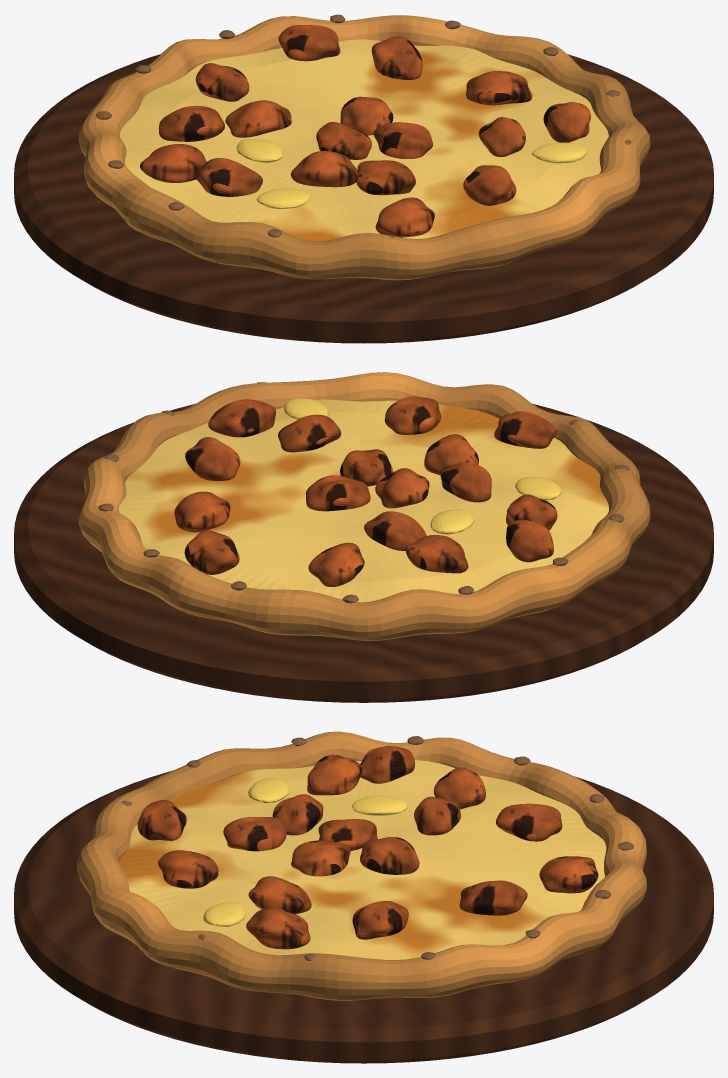
Rendered from chicken_overload_pizza.glb.
3 views of the same model, one above another, from view 1: azimuth 30°, elevation 25°; view 2: azimuth 150°, elevation 25°; view 3: azimuth 270°, elevation 25° (orthographic).
Parts seen in each view (by area): view 1: chicken_overload_pizza__board_1, chicken_overload_pizza__cheese_4, chicken_overload_pizza__crust_3, chicken_overload_pizza__chicken_5, chicken_overload_pizza__yellow_pepper_8, chicken_overload_pizza__char_spots_9; view 2: chicken_overload_pizza__board_1, chicken_overload_pizza__cheese_4, chicken_overload_pizza__crust_3, chicken_overload_pizza__chicken_5, chicken_overload_pizza__yellow_pepper_8, chicken_overload_pizza__char_spots_9; view 3: chicken_overload_pizza__board_1, chicken_overload_pizza__cheese_4, chicken_overload_pizza__crust_3, chicken_overload_pizza__chicken_5, chicken_overload_pizza__yellow_pepper_8, chicken_overload_pizza__char_spots_9.
Boxes of the visible parts, box(x1,y1,x2,y2) form: chicken_overload_pizza__board_1: box(14, 38, 713, 343); chicken_overload_pizza__cheese_4: box(119, 39, 608, 241); chicken_overload_pizza__crust_3: box(78, 15, 650, 280); chicken_overload_pizza__chicken_5: box(140, 25, 590, 237); chicken_overload_pizza__yellow_pepper_8: box(236, 139, 587, 208); chicken_overload_pizza__char_spots_9: box(96, 14, 631, 237); chicken_overload_pizza__board_1: box(14, 403, 713, 702); chicken_overload_pizza__cheese_4: box(118, 399, 608, 602); chicken_overload_pizza__crust_3: box(78, 372, 650, 640); chicken_overload_pizza__chicken_5: box(174, 396, 557, 586); chicken_overload_pizza__yellow_pepper_8: box(284, 398, 561, 534); chicken_overload_pizza__char_spots_9: box(98, 382, 629, 603); chicken_overload_pizza__board_1: box(14, 770, 713, 1063); chicken_overload_pizza__cheese_4: box(119, 760, 606, 959); chicken_overload_pizza__crust_3: box(77, 731, 646, 1000); chicken_overload_pizza__chicken_5: box(137, 746, 598, 949); chicken_overload_pizza__yellow_pepper_8: box(203, 778, 407, 926); chicken_overload_pizza__char_spots_9: box(121, 736, 633, 960).
Bounding box in the file's own units: 0.35 × 0.0487 × 0.35.
Materials: 9 (4 with a texture image).
